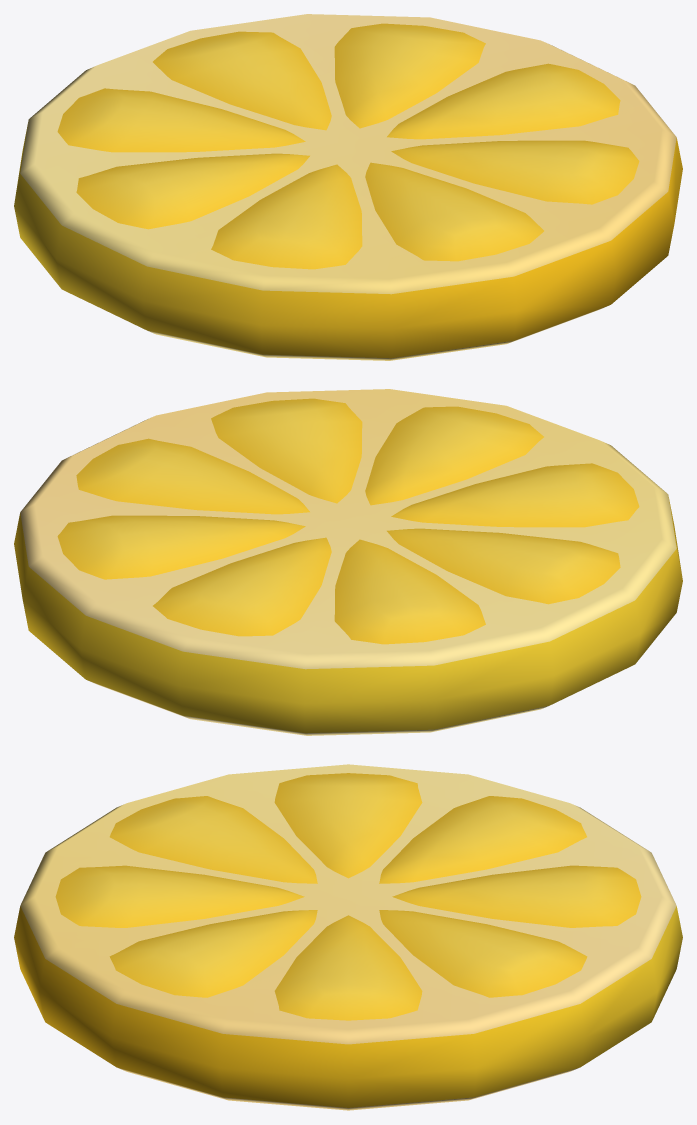
Rendered from lemon_004.fbx.
The picture shows the model from 3 angles, top to bottom: view 1: azimuth 30°, elevation 25°; view 2: azimuth 150°, elevation 25°; view 3: azimuth 270°, elevation 25°; orthographic projection.
Parts seen in each view (by area): view 1: lemon_004; view 2: lemon_004; view 3: lemon_004.
Part boxes in pixels (<box>): lemon_004: <box>14,14,682,360</box>; lemon_004: <box>14,389,682,735</box>; lemon_004: <box>14,764,682,1110</box>.
Size of the model in its own units: 10.98 by 10.98 by 1.9.
